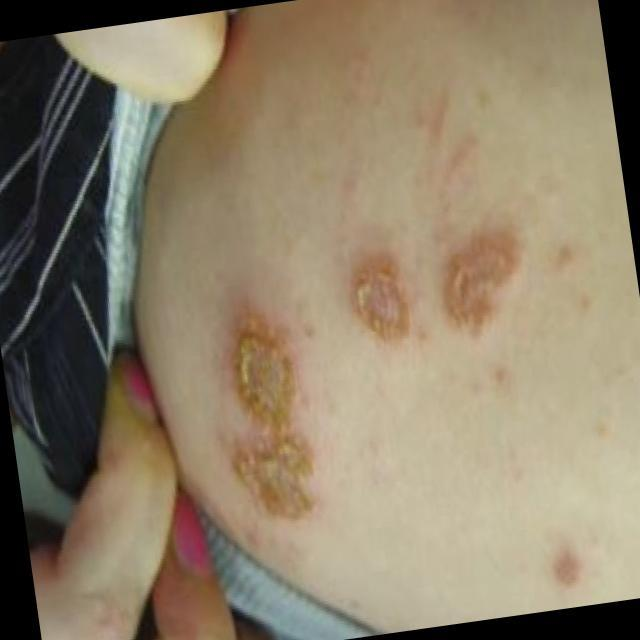Eczema: (216, 314, 326, 536), (439, 231, 522, 329), (353, 268, 421, 356)
